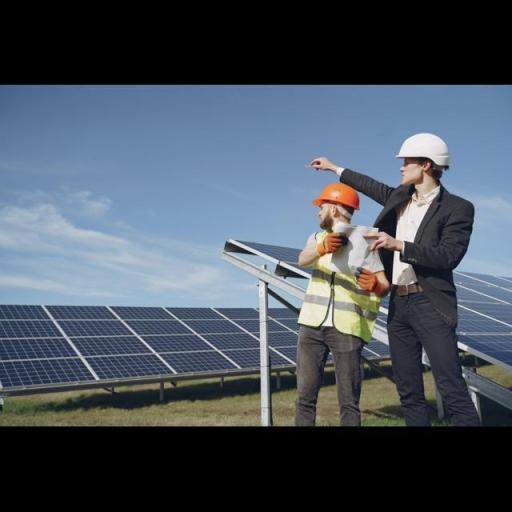Person: (335, 97, 504, 430), (283, 164, 374, 438)
gloves: (350, 261, 382, 298), (309, 233, 346, 260)
helmet: (390, 120, 456, 172), (298, 177, 370, 214)
none: (379, 182, 478, 317)
vest: (298, 230, 374, 348)
